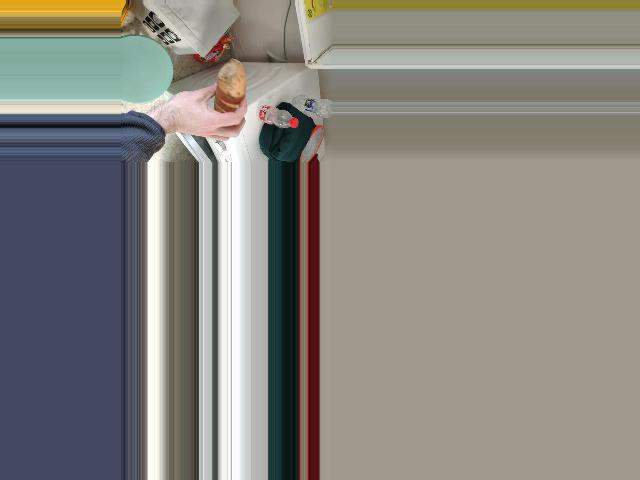sweet_potato: (198, 75, 240, 126)
